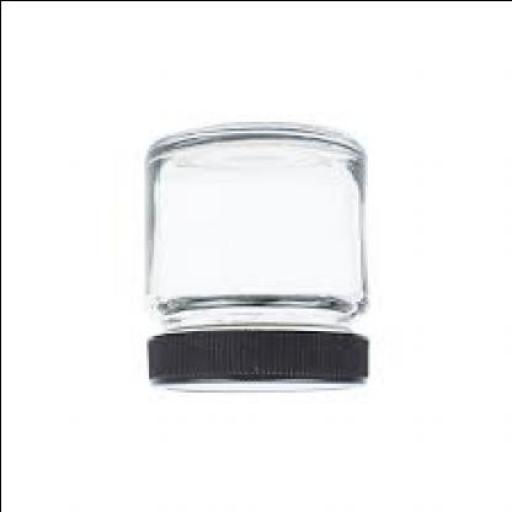glass: (144, 123, 366, 335)
plastic: (148, 332, 371, 389)
